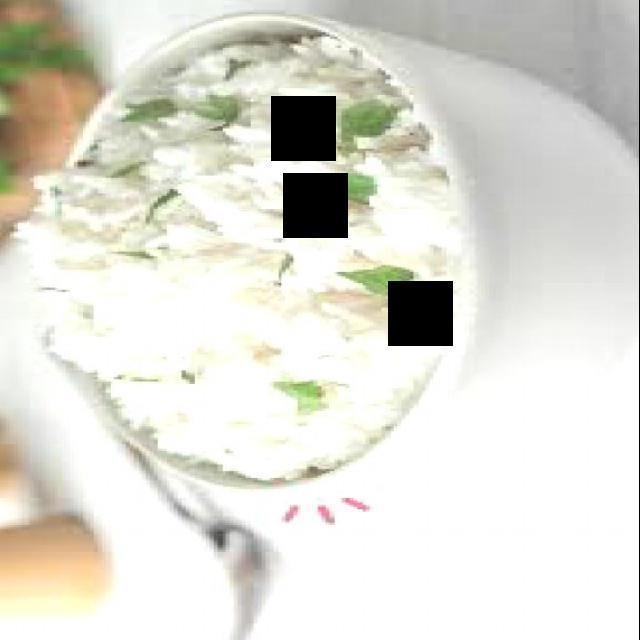Chicken -Chicken Inasal-: (53, 33, 449, 479)
